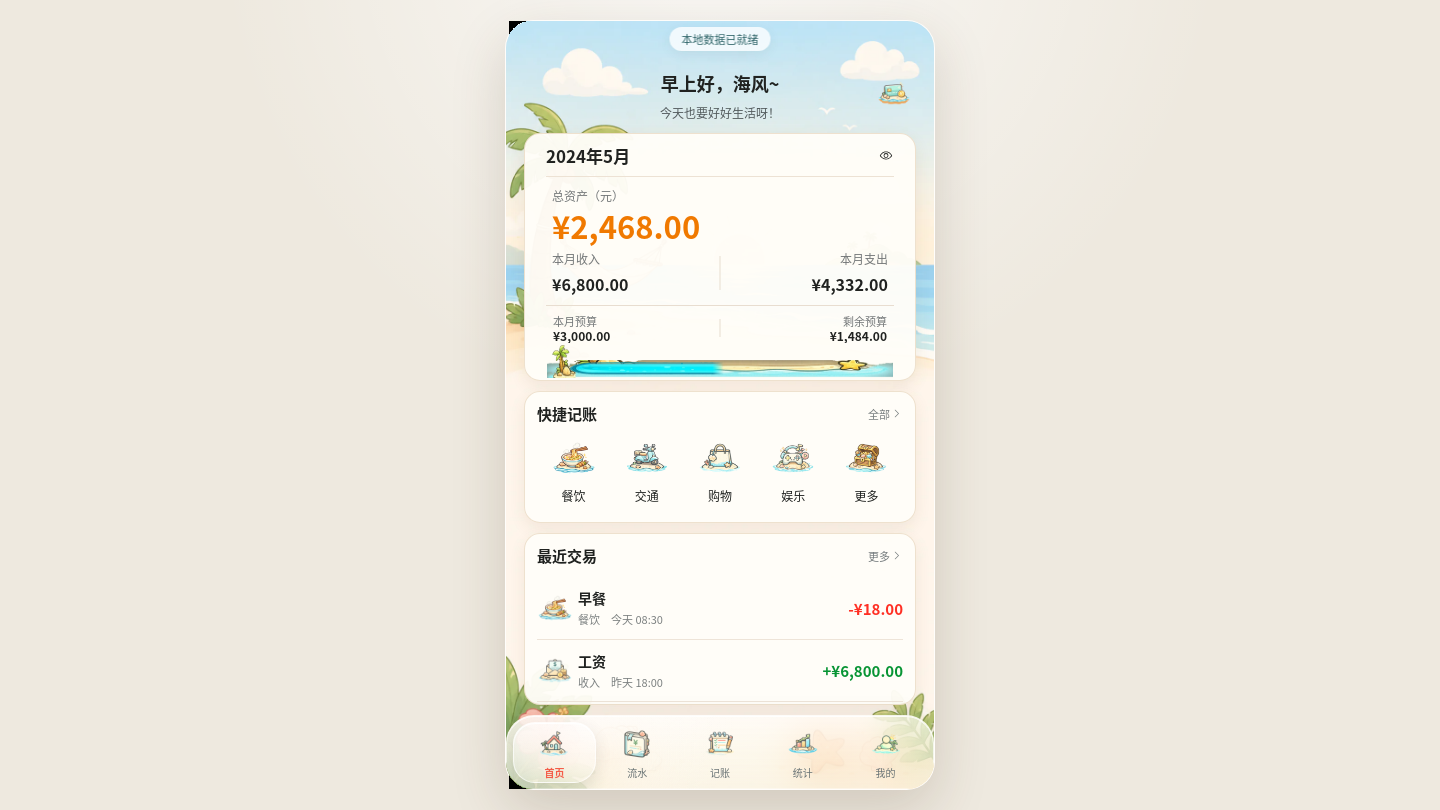
Test: reference five-page application › opens the asset account list from the home bank-card button
The width and height of the screenshot is (1440, 810).
Click the button named "查看资产账户" at (894, 92), box left=872, top=70, right=916, bottom=114
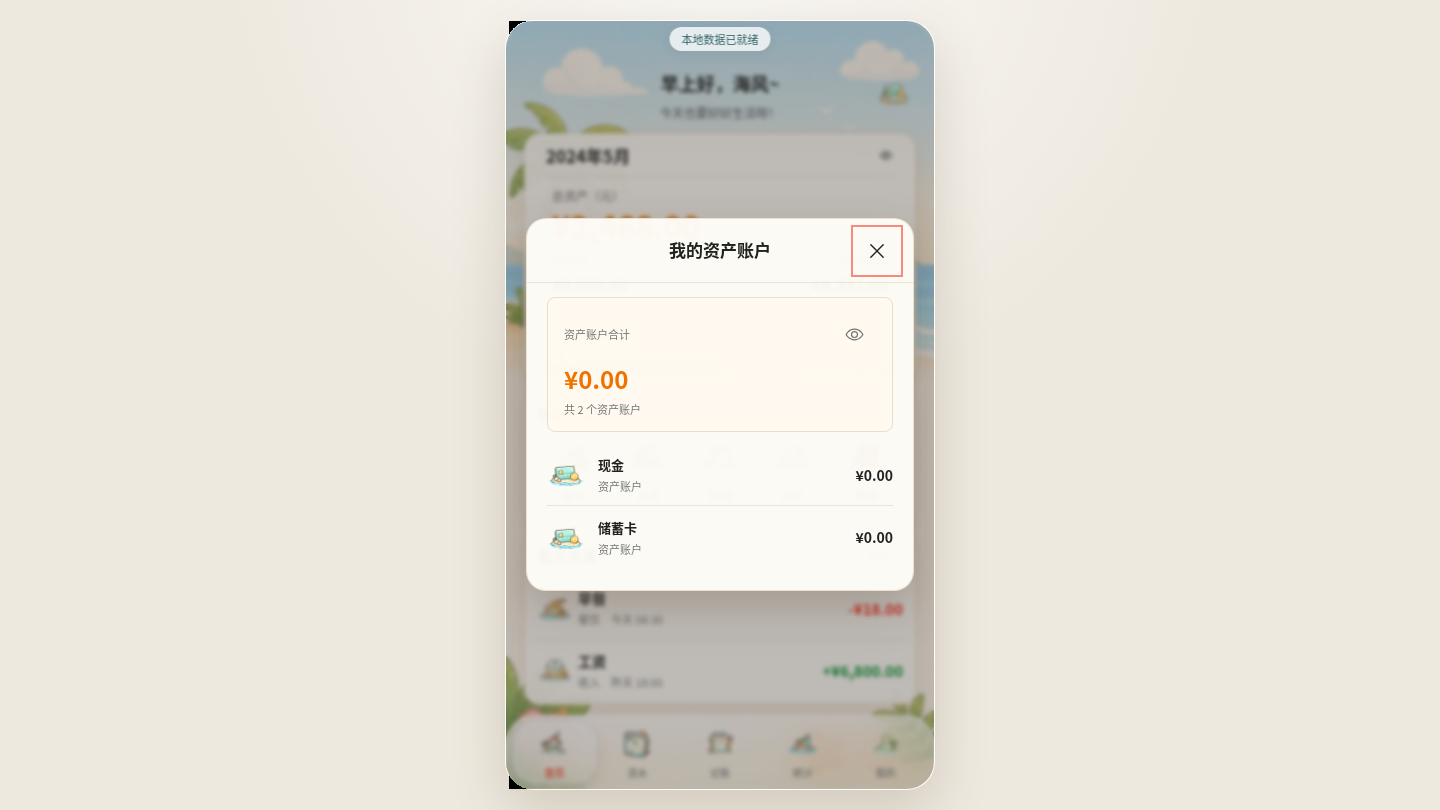
Check: the dialog "我的资产账户" is shown, box left=526, top=218, right=914, bottom=592
Check: the text "资产账户合计" is shown, box left=564, top=326, right=630, bottom=342
Check: the text "现金" is shown, box left=598, top=456, right=624, bottom=474
